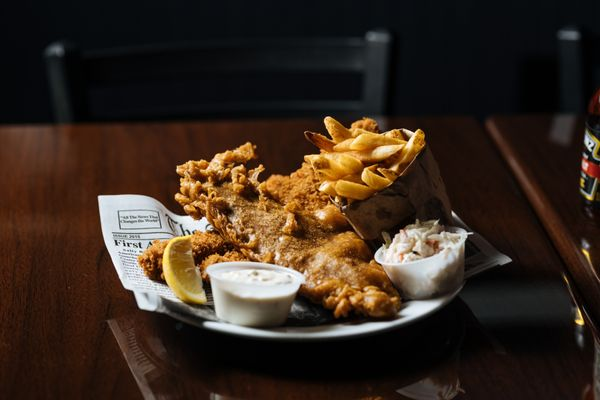pizza: (207, 260, 305, 327)
sushi: (374, 219, 468, 299), (207, 261, 304, 327)
